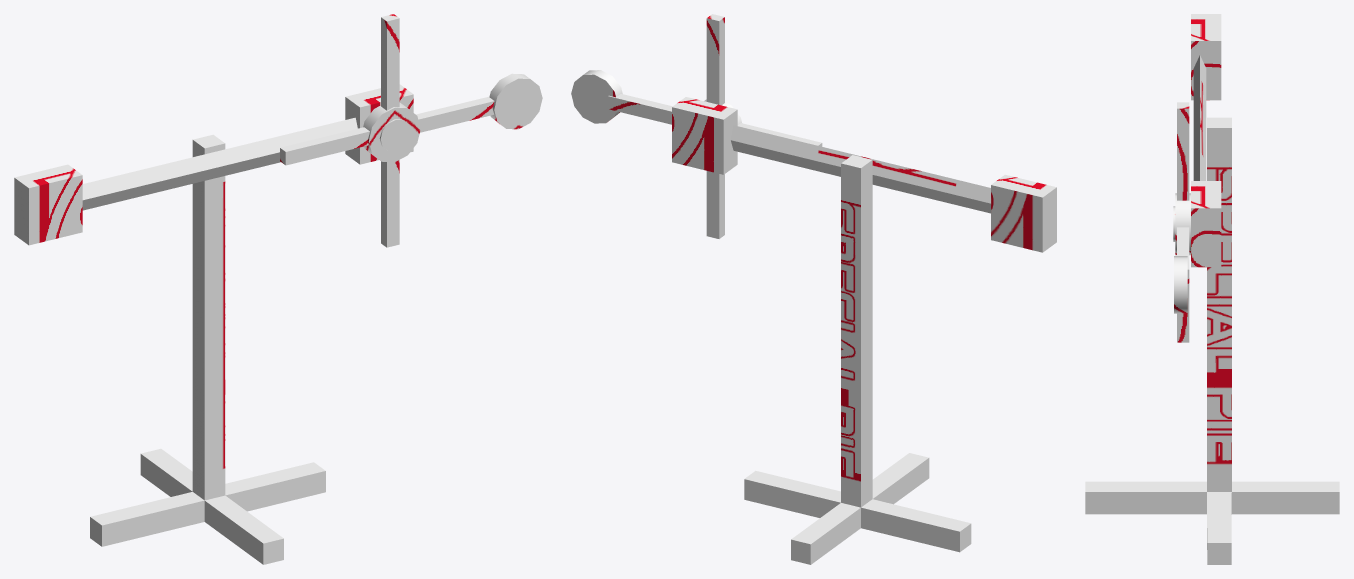
File: yidongma1.FBX
3 views of the same model, side by side, from view 1: azimuth 30°, elevation 25°; view 2: azimuth 150°, elevation 25°; view 3: azimuth 270°, elevation 25° (orthographic). The views are drawn at different scales.
Parts seen in each view (by area): view 1: Object32, Object31, Object30, Object33; view 2: Object32, Object31, Object30, Object33; view 3: Object32, Object31, Object30, Object33.
Boxes of the visible parts, <box> form: Object32: <box>90,134,325,564</box>; Object31: <box>14,84,413,245</box>; Object30: <box>280,14,494,247</box>; Object33: <box>489,73,542,129</box>; Object32: <box>744,155,971,564</box>; Object31: <box>672,97,1056,252</box>; Object30: <box>608,14,822,238</box>; Object33: <box>571,70,622,123</box>; Object32: <box>1085,117,1339,564</box>; Object31: <box>1191,14,1221,267</box>; Object30: <box>1173,102,1190,342</box>; Object33: <box>1174,256,1187,313</box>.
Size of the model in its own units: 40.31 by 16.97 by 35.82.
